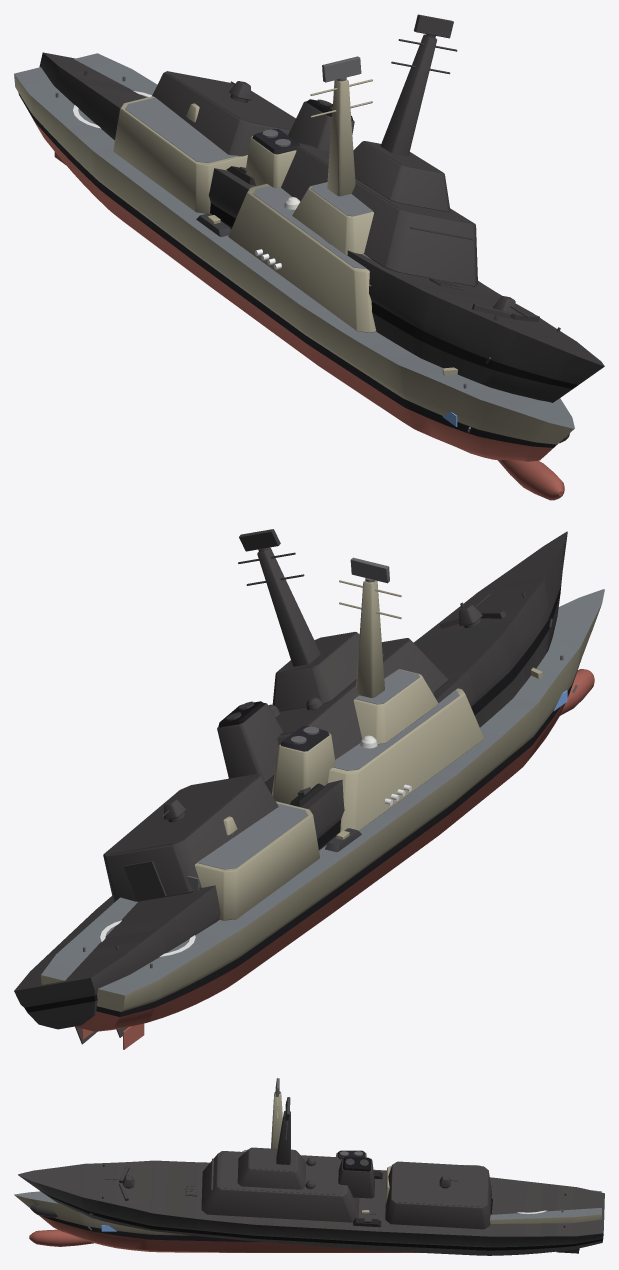
The model's file is corvette__tamandare_frigate.glb.
3 renders of one model, top to bottom at view 1: azimuth 30°, elevation 25°; view 2: azimuth 150°, elevation 25°; view 3: azimuth 270°, elevation 25°, orthographic. The views are drawn at different scales.
Parts seen in each view (by area): view 1: Hull_Mesh, Wreck, Radar_Mesh; view 2: Hull_Mesh, Wreck, Radar_Mesh; view 3: Wreck, Hull_Mesh.
Part boxes in pixels (<box>): Hull_Mesh: <box>14,53,574,500</box>; Wreck: <box>39,14,604,443</box>; Radar_Mesh: <box>322,56,361,82</box>; Hull_Mesh: <box>41,580,604,1049</box>; Wreck: <box>14,529,567,1044</box>; Radar_Mesh: <box>350,557,389,583</box>; Wreck: <box>18,1097,604,1255</box>; Hull_Mesh: <box>14,1092,601,1252</box>.
Size of what is drawn, in the model's own units: 23.34 by 36.69 by 112.
